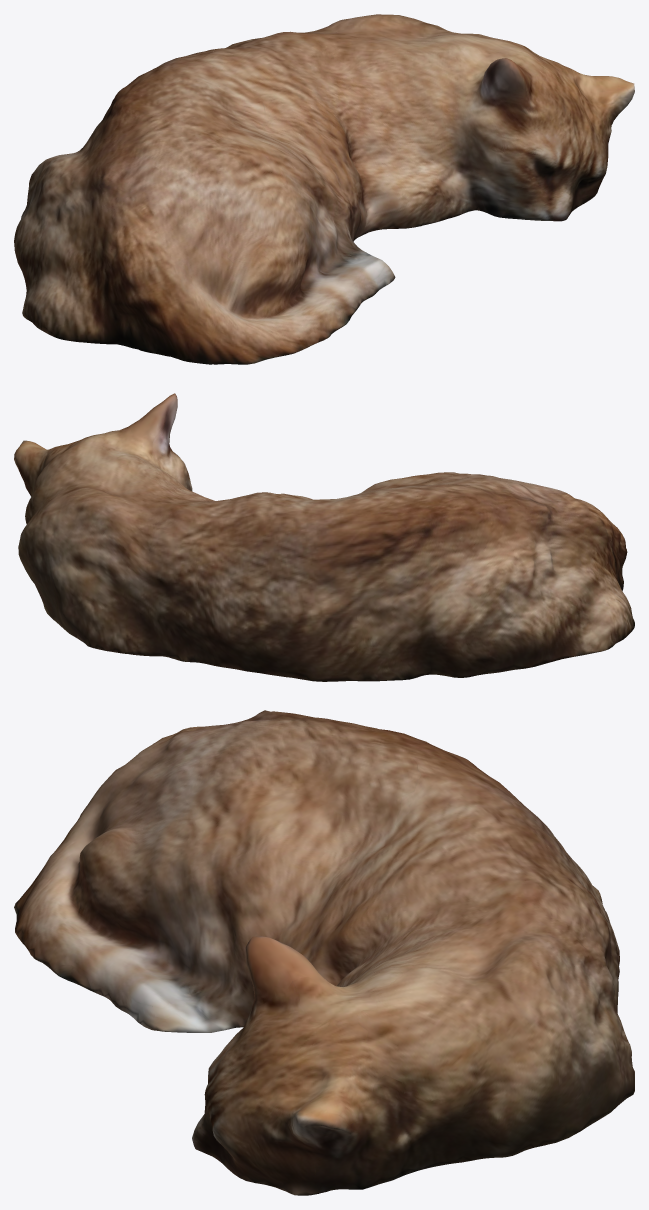
File: risko_sleeping.glb
3 renders of one model, top to bottom at view 1: azimuth 30°, elevation 25°; view 2: azimuth 150°, elevation 25°; view 3: azimuth 270°, elevation 25°, orthographic. The views are drawn at different scales.
Visible parts, largest first — view 1: Mesh_0; view 2: Mesh_0; view 3: Mesh_0.
Part boxes in pixels (<box>): Mesh_0: <box>14,14,634,364</box>; Mesh_0: <box>14,393,634,681</box>; Mesh_0: <box>14,710,634,1195</box>.
Size of the model in its own units: 0.8194 by 0.1901 by 0.5516.
Materials: 1 (1 with a texture image).
